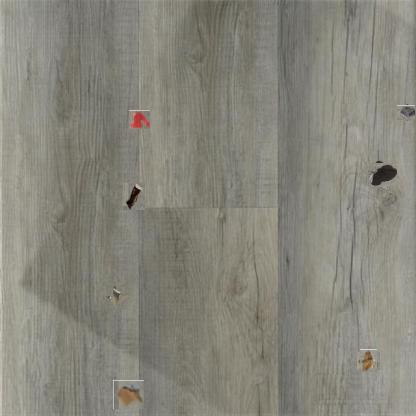dirty: (113, 380, 144, 409), (123, 184, 145, 212), (358, 351, 379, 371), (107, 285, 125, 305), (398, 103, 416, 122)
liquid: (369, 161, 395, 189), (128, 110, 150, 129)
